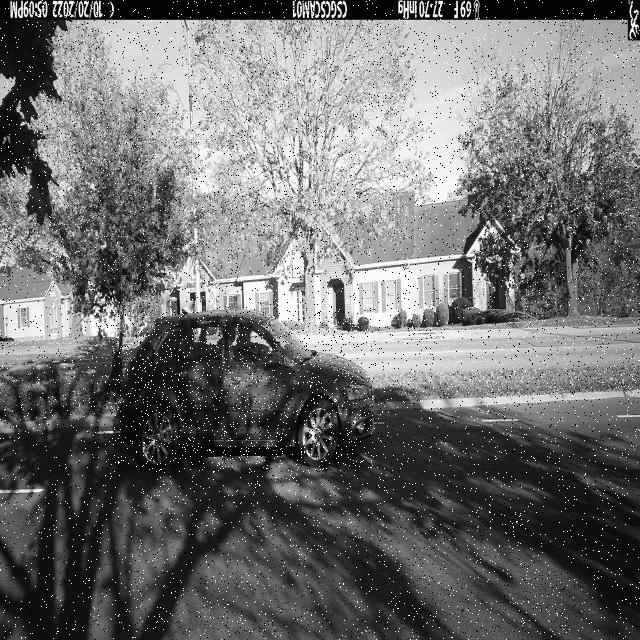Hatchback: (112, 310, 373, 473)
